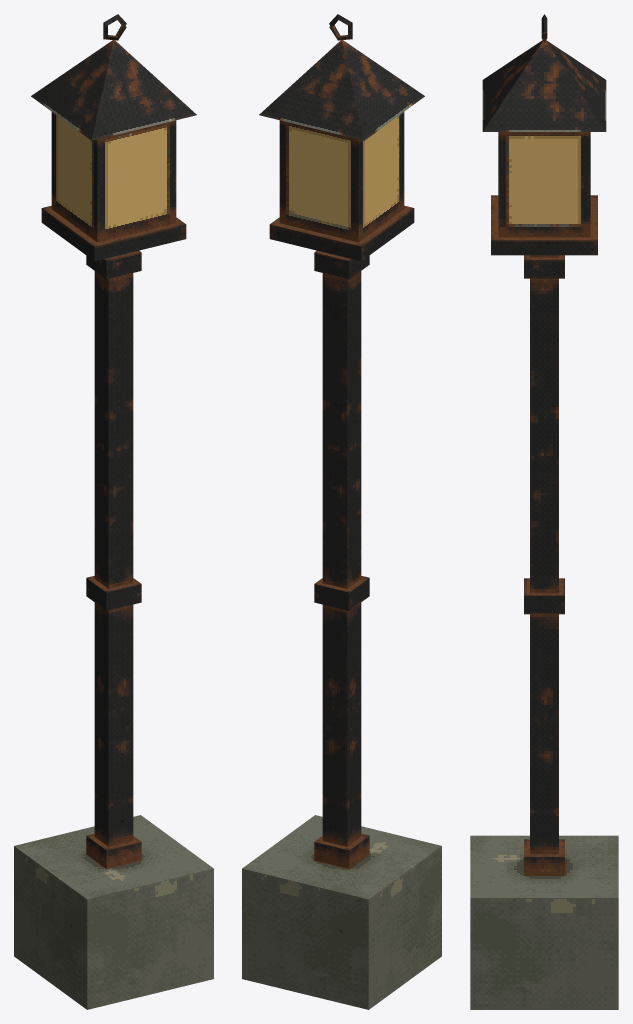
Rendered from Lamp_Post_01.glb.
3 views of the same model, side by side, from view 1: azimuth 30°, elevation 25°; view 2: azimuth 150°, elevation 25°; view 3: azimuth 270°, elevation 25° (orthographic).
Visible parts, largest first — view 1: Lamp_Post_01; view 2: Lamp_Post_01; view 3: Lamp_Post_01.
Boxes of the visible parts, x1,y1,x2,y2 form: Lamp_Post_01: (14, 14, 213, 1009); Lamp_Post_01: (242, 14, 441, 1009); Lamp_Post_01: (470, 14, 618, 1009).
Size of the model in its own units: 0.36 by 2.59 by 0.36.
1 material, 1 textured.
